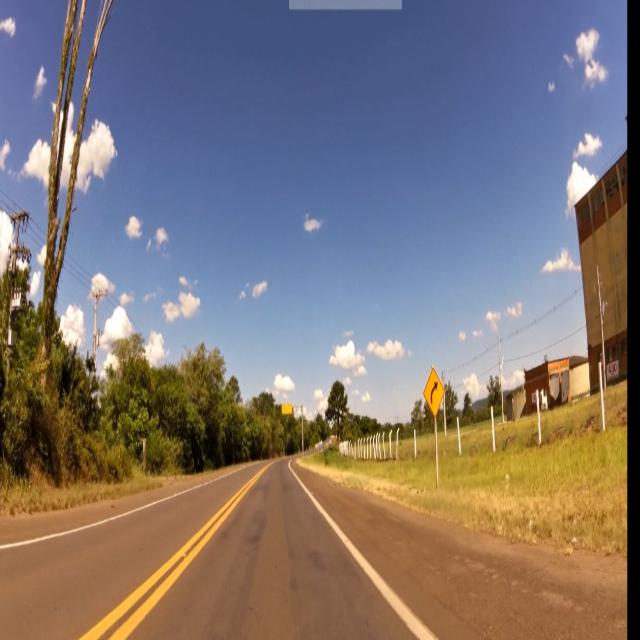A-2b: (425, 369, 445, 425)
